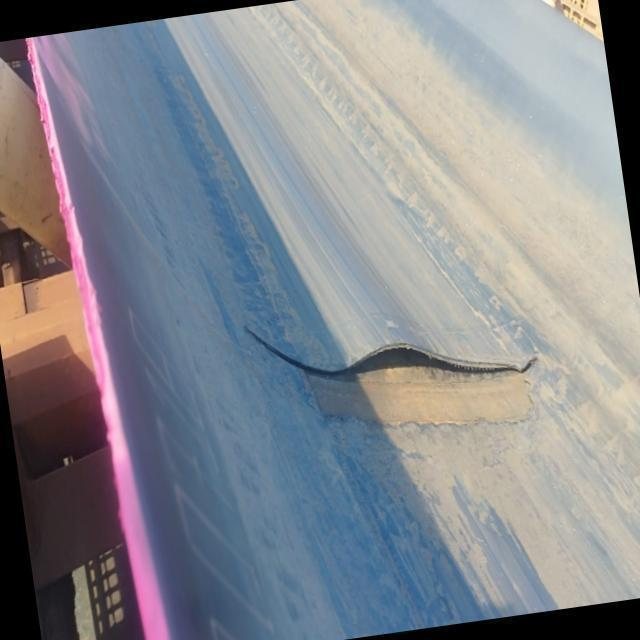Tear: (239, 324, 544, 385)
